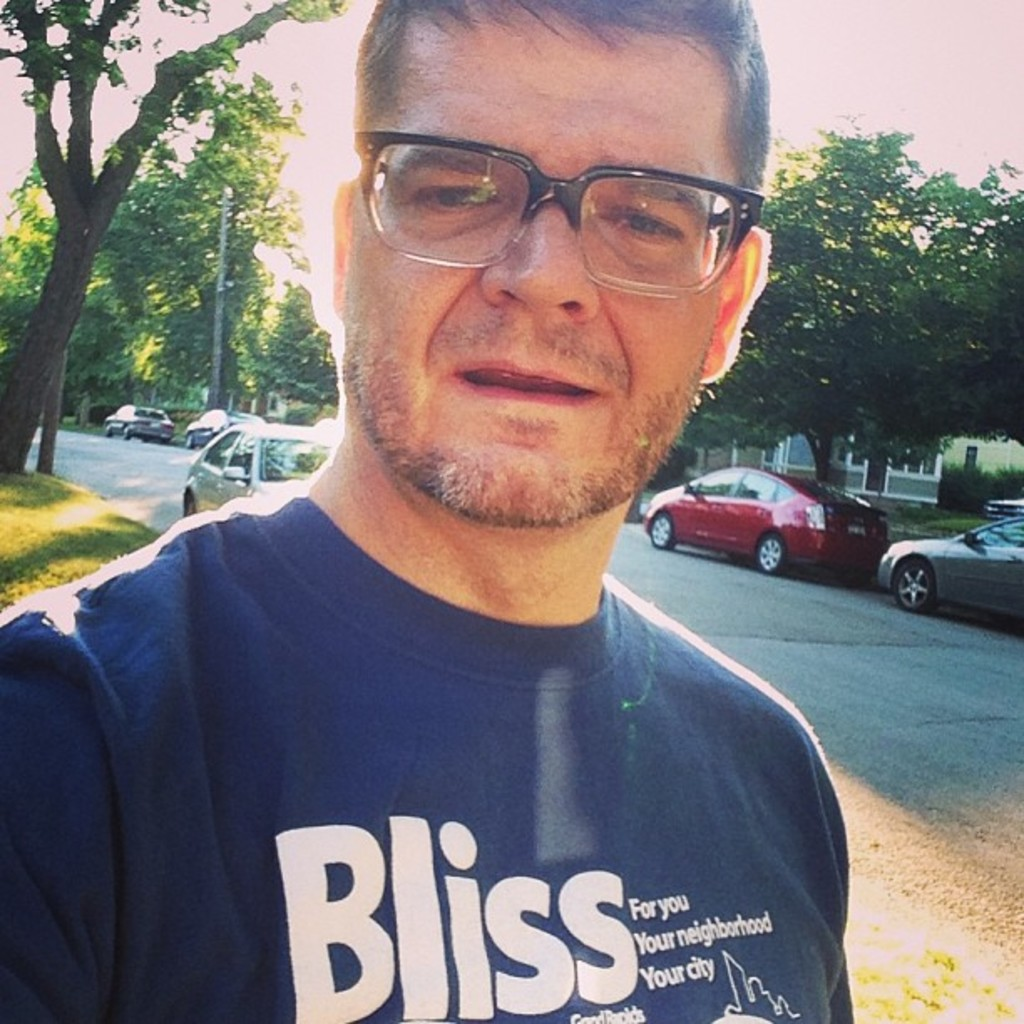Car: (650, 461, 915, 593), (868, 503, 1022, 619), (172, 419, 334, 528), (100, 394, 175, 445), (184, 409, 234, 453)
